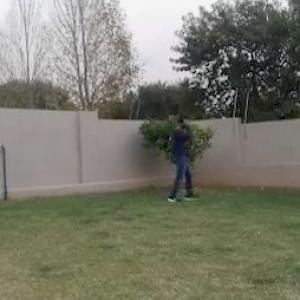follow: (170, 110, 195, 210)
